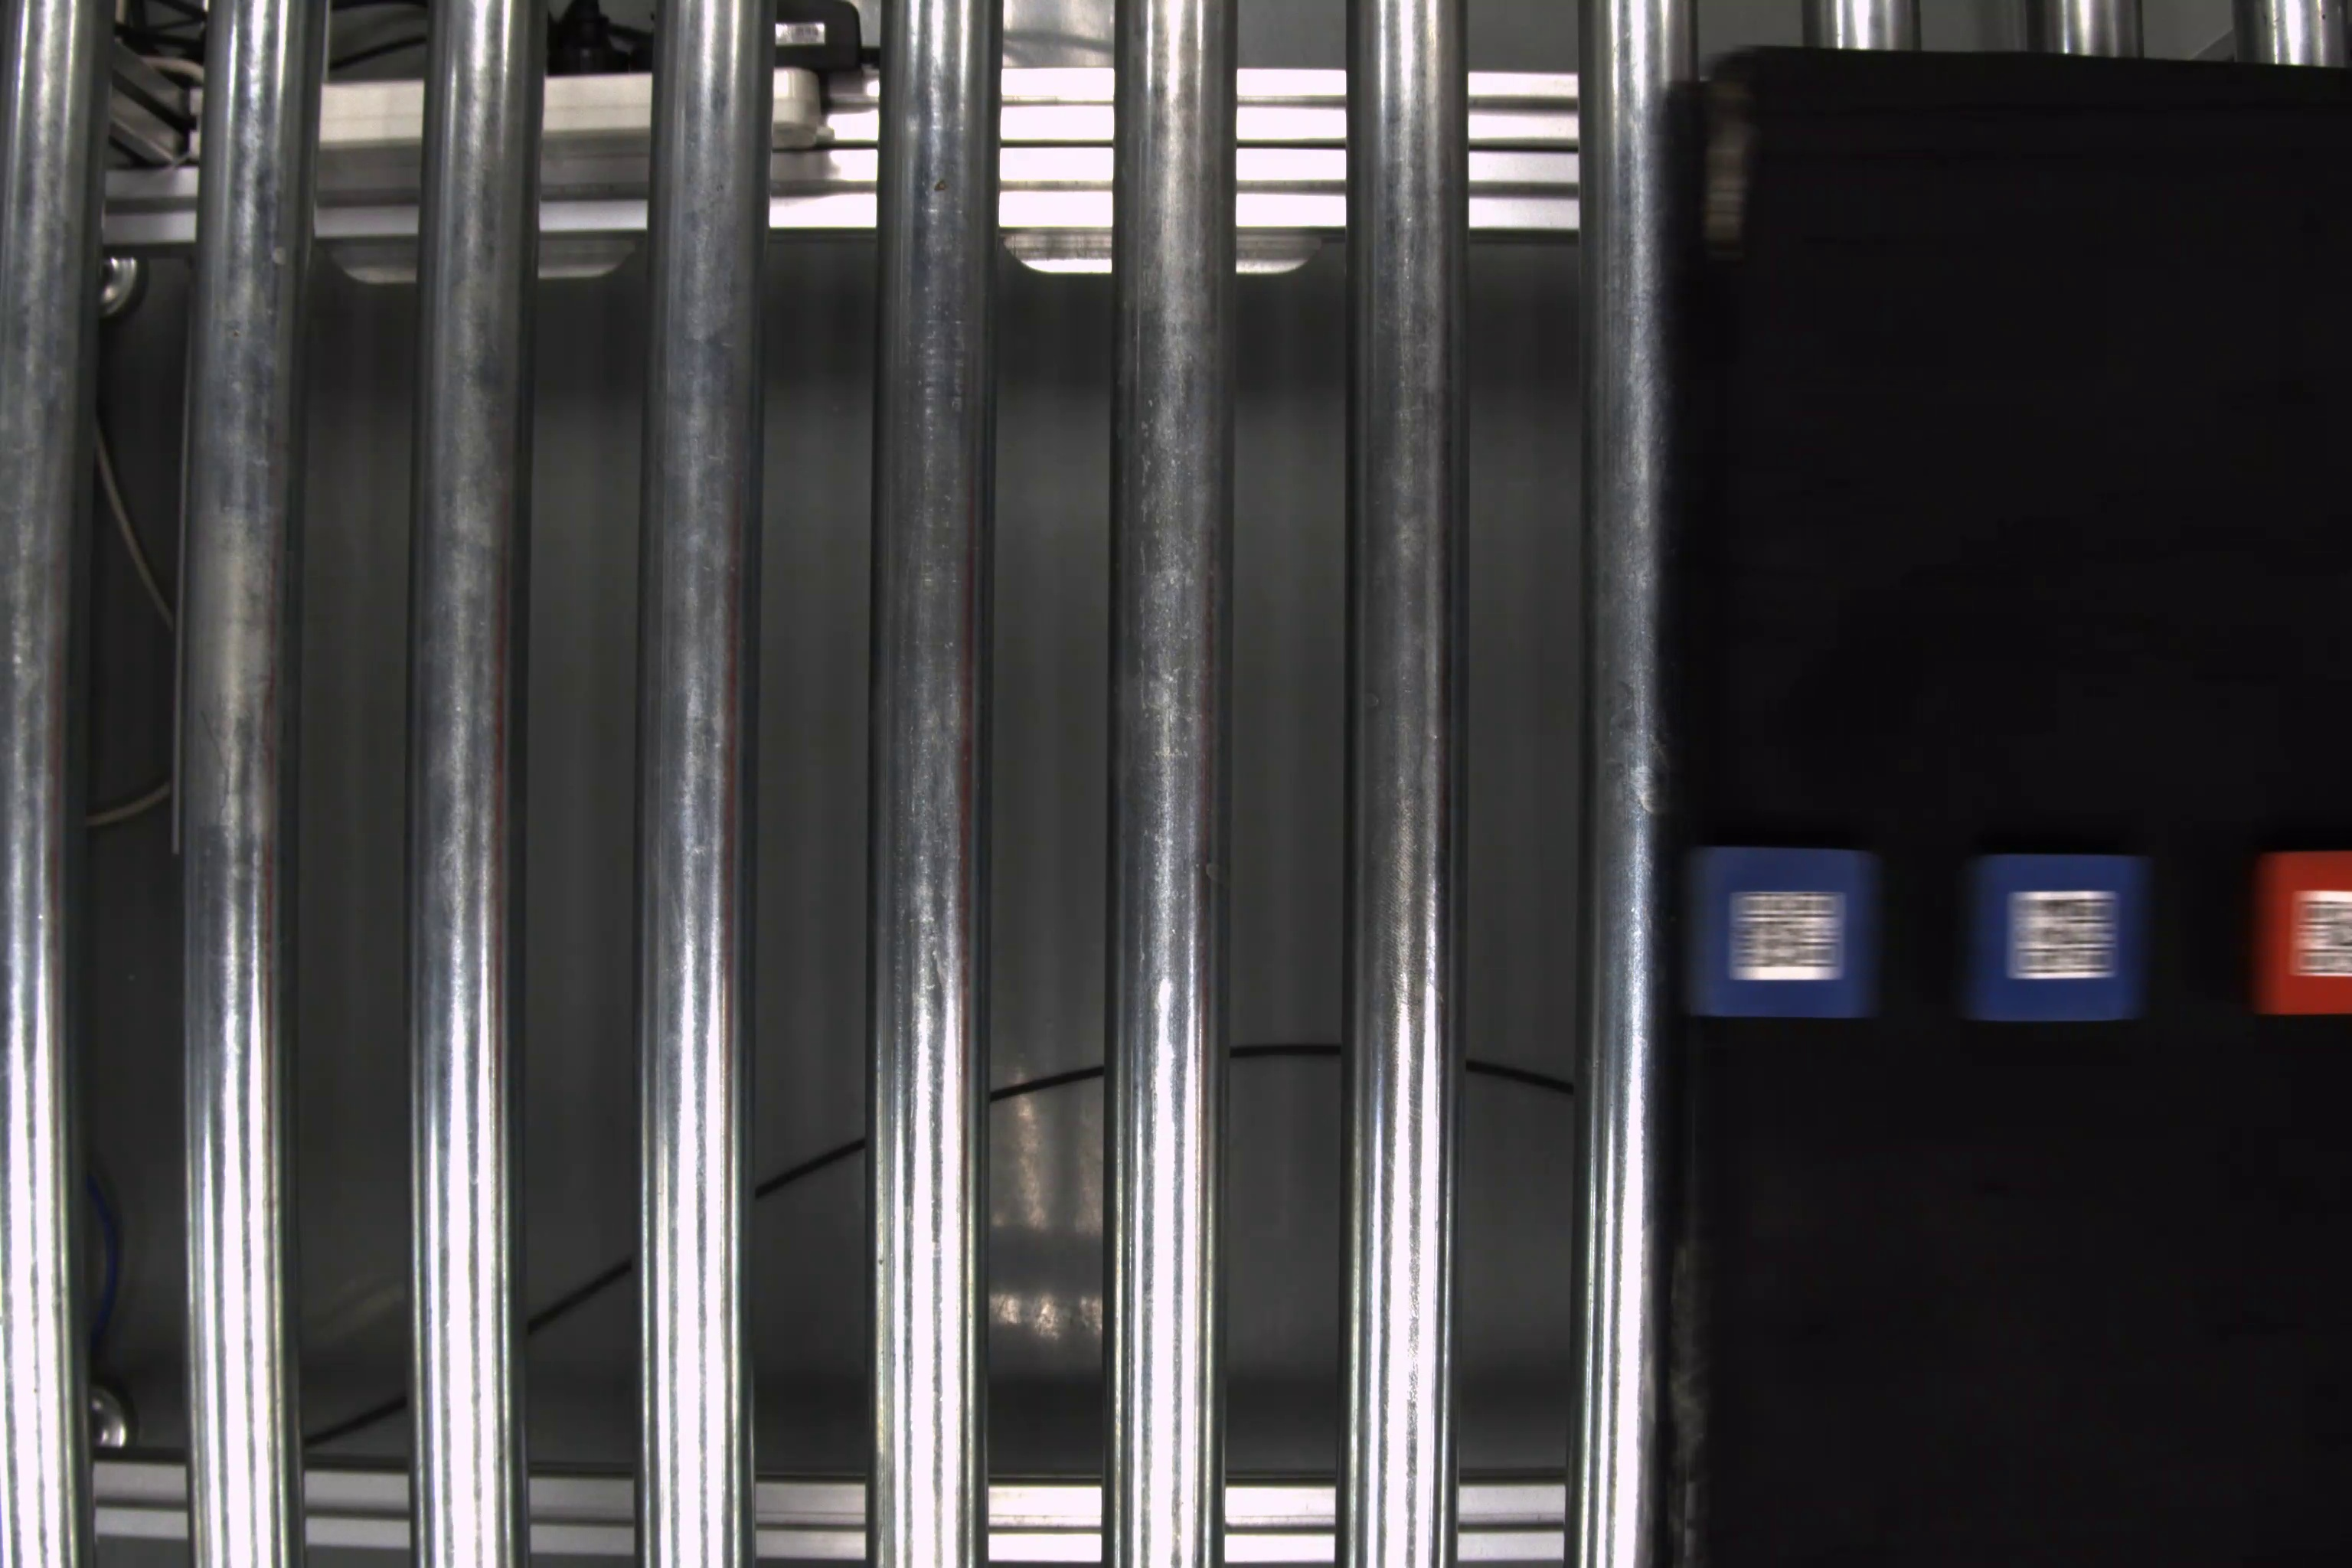wood: (1680, 836, 1878, 1022), (1960, 849, 2140, 1022), (2259, 843, 2352, 1015)
